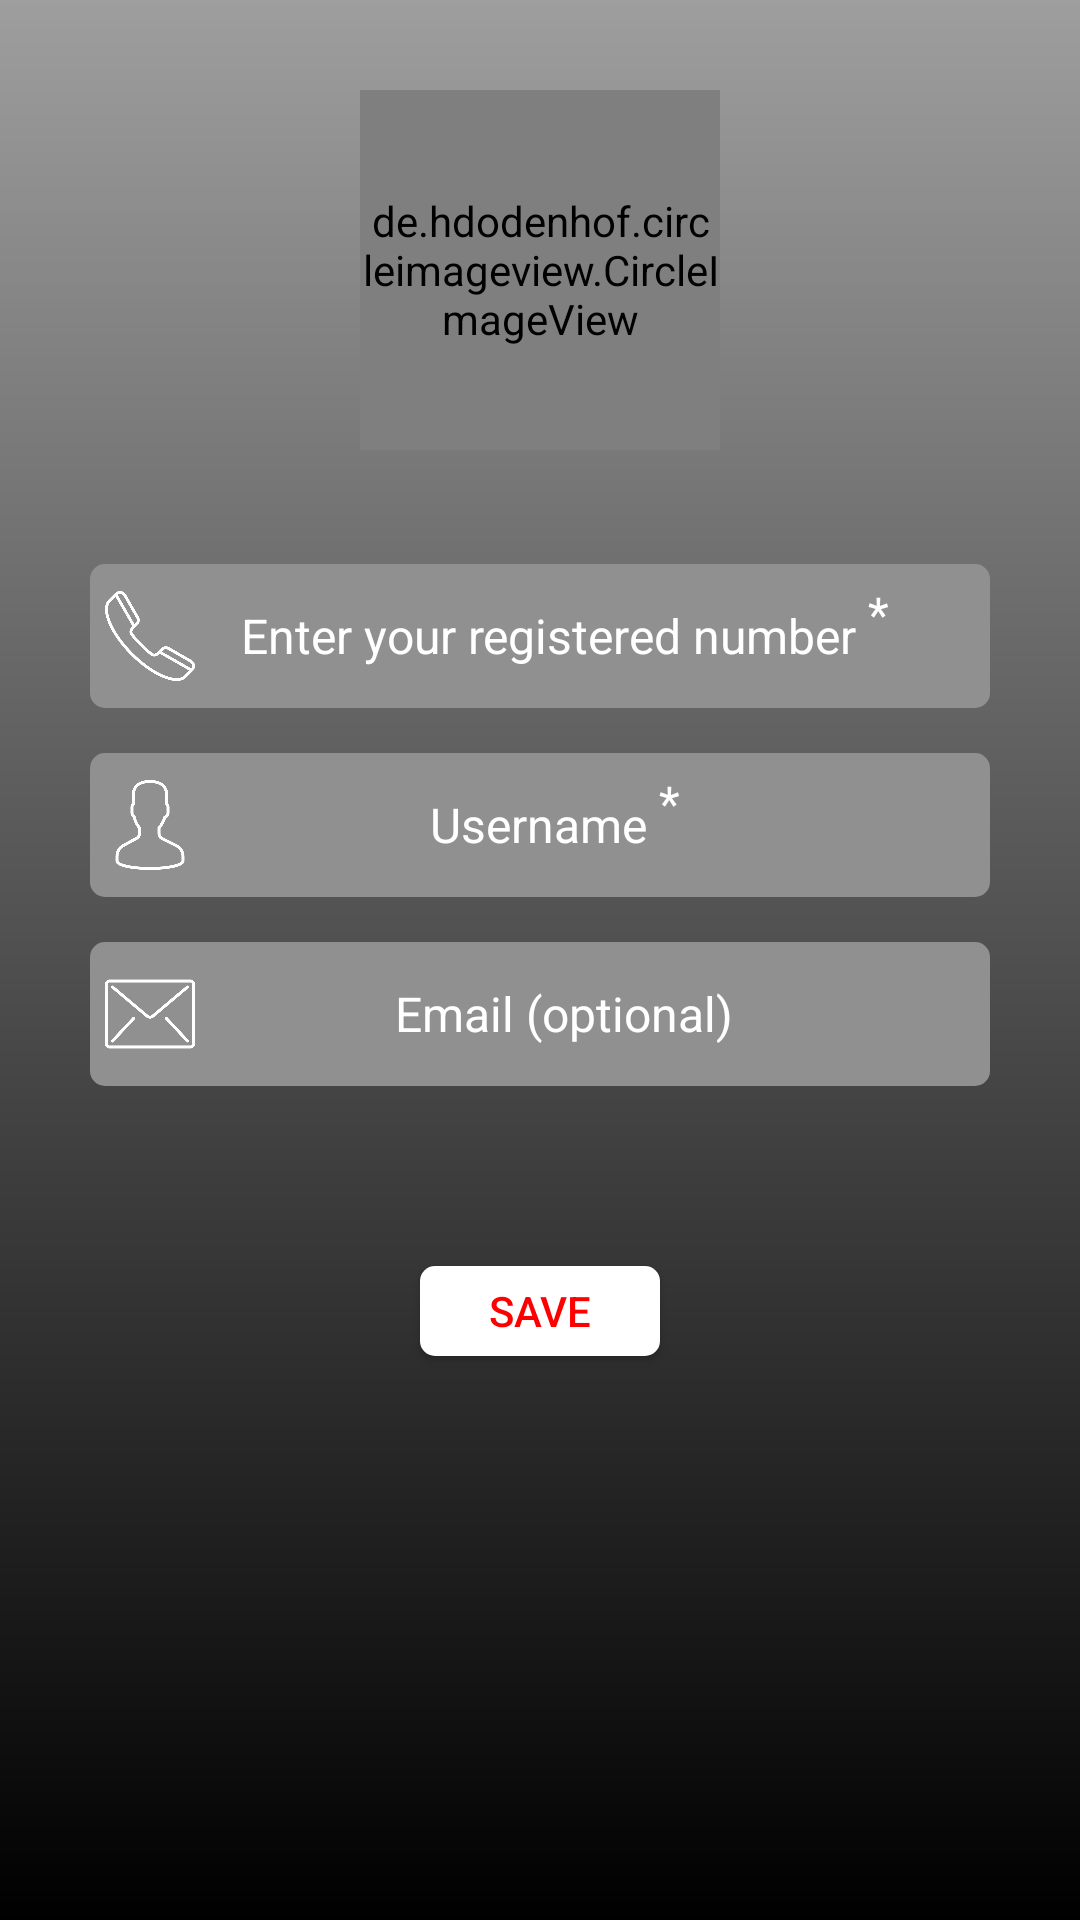

Screen size 1080px x 1920px. Icon name, then its center in pixels as (x,y):
call: (150,636)
user profile: (150,825)
